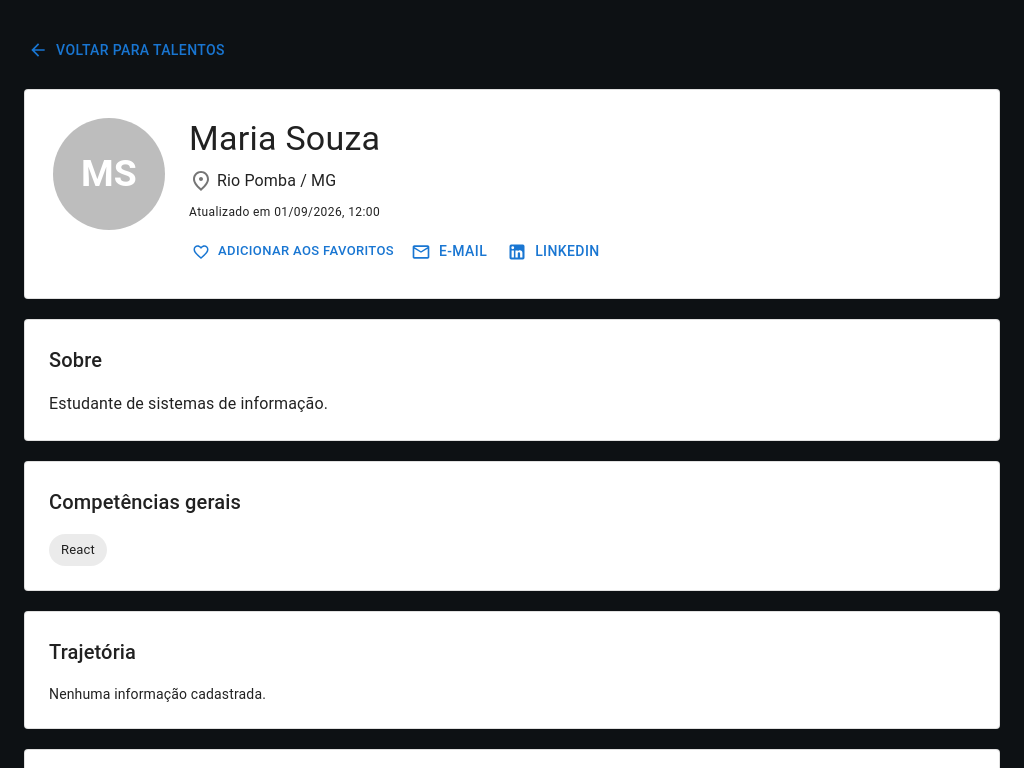
Scenario: TalentProfileView › favorite › toggles the favorite state of the displayed profile
Expected: the heading "Maria Souza" is shown, [189,118,380,160]
Click the button with aria-label "Adicionar aos favoritos: Maria Souza": coordinates (294, 252) [189,233,399,270]
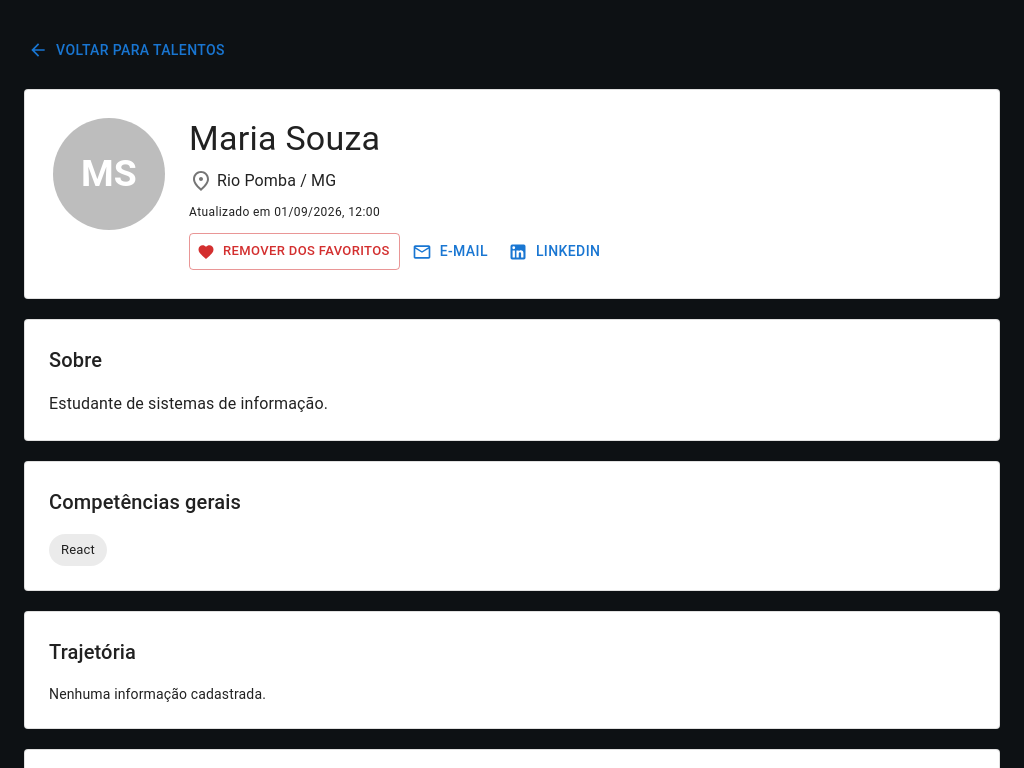
Click the button with aria-label "Remover dos favoritos: Maria Souza": coordinates (294, 252) [189,233,400,270]
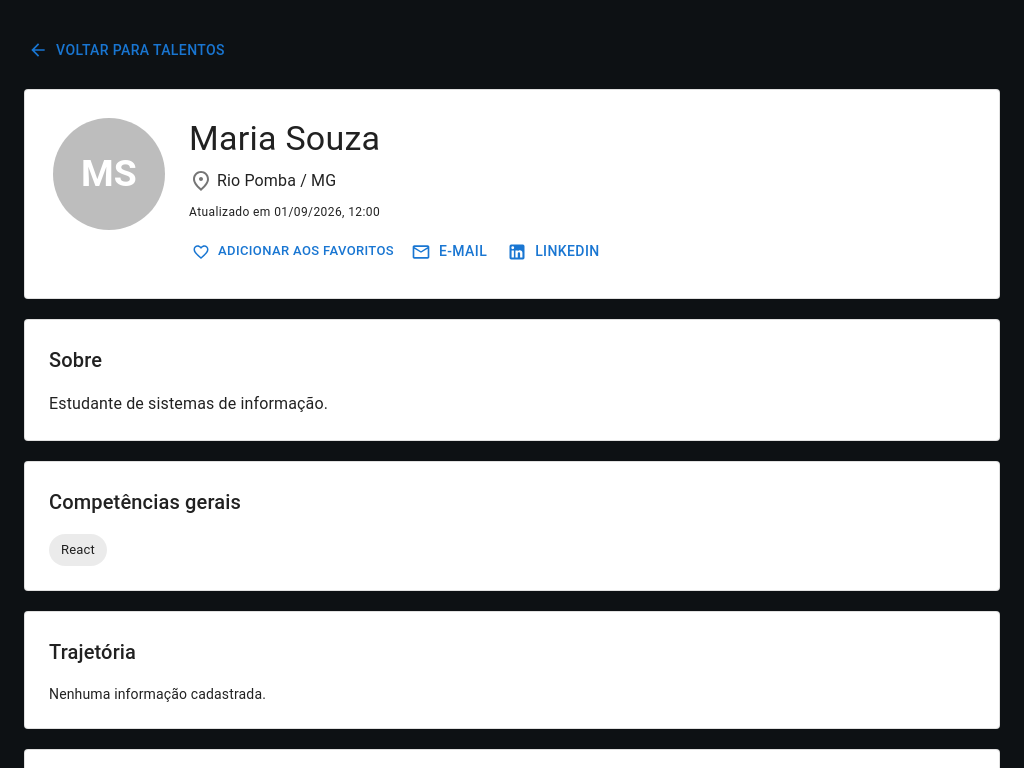
Expected: the button with aria-label "Adicionar aos favoritos: Maria Souza" is shown, [189,233,399,270]
